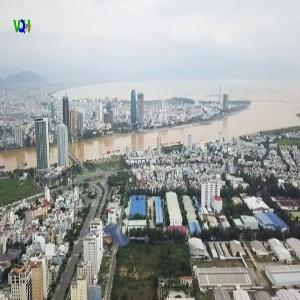drone: (82, 188, 167, 273)
